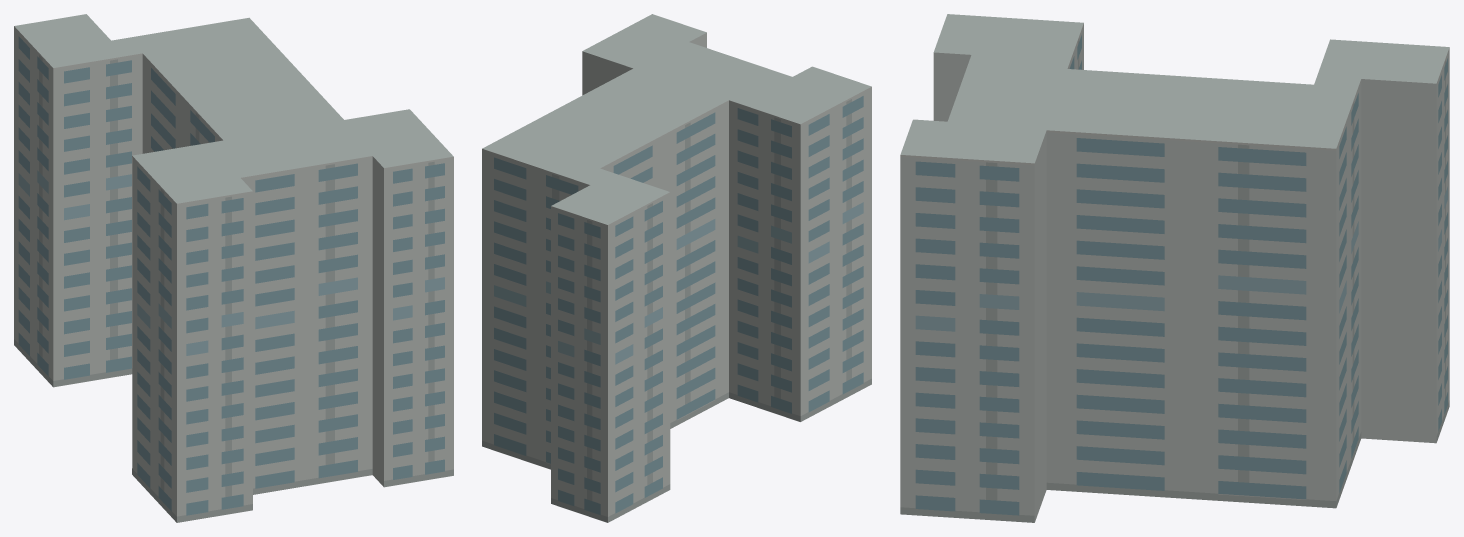
Rendered from residential-4e695954-96d3-4670-b7e8-92005f4cd4f8.glb.
3 views of the same model, side by side, from view 1: azimuth 30°, elevation 25°; view 2: azimuth 150°, elevation 25°; view 3: azimuth 270°, elevation 25° (orthographic). The views are drawn at different scales.
Parts seen in each view (by area): view 1: residential-4e695954-96d3-4670-b7e8-92005f4cd4f8.tmp; view 2: residential-4e695954-96d3-4670-b7e8-92005f4cd4f8.tmp; view 3: residential-4e695954-96d3-4670-b7e8-92005f4cd4f8.tmp.
Part boxes in pixels (x1,y1,x2,y2): residential-4e695954-96d3-4670-b7e8-92005f4cd4f8.tmp: [14, 14, 453, 522]; residential-4e695954-96d3-4670-b7e8-92005f4cd4f8.tmp: [482, 14, 871, 522]; residential-4e695954-96d3-4670-b7e8-92005f4cd4f8.tmp: [900, 14, 1449, 522].
Bounding box in the file's own units: 37.43 × 42 × 58.15.
